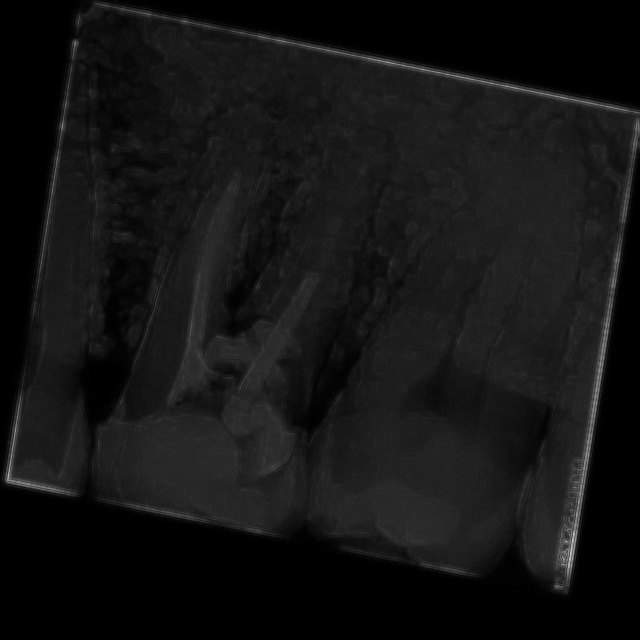Class 2- incomplete endodontic treatment: (85, 71, 398, 539)
